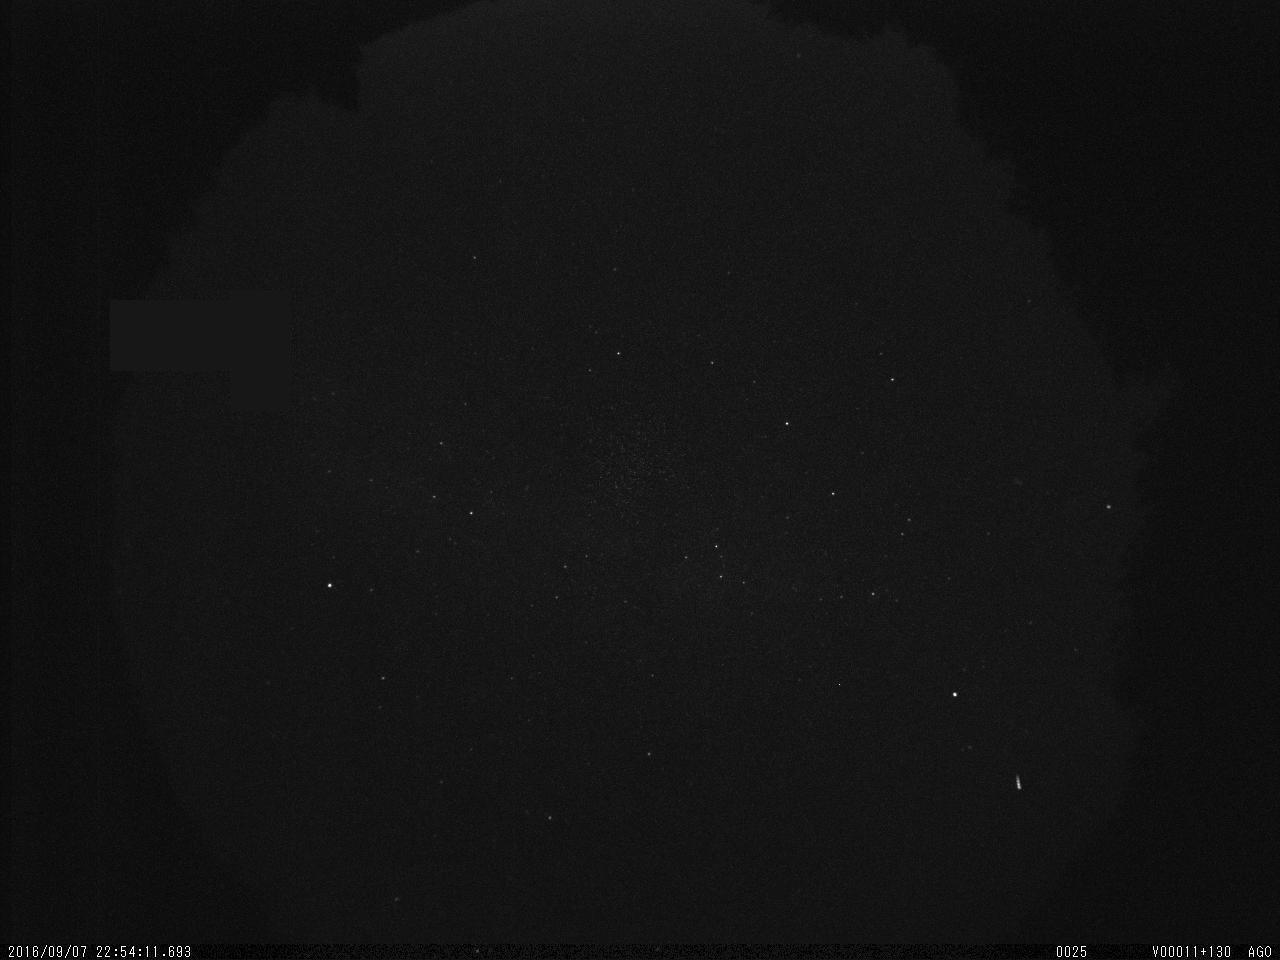Meteor: (1011, 770, 1025, 796)
